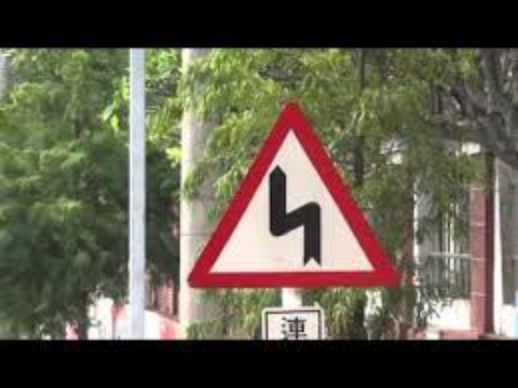Double_bend_left: (187, 101, 403, 289)
